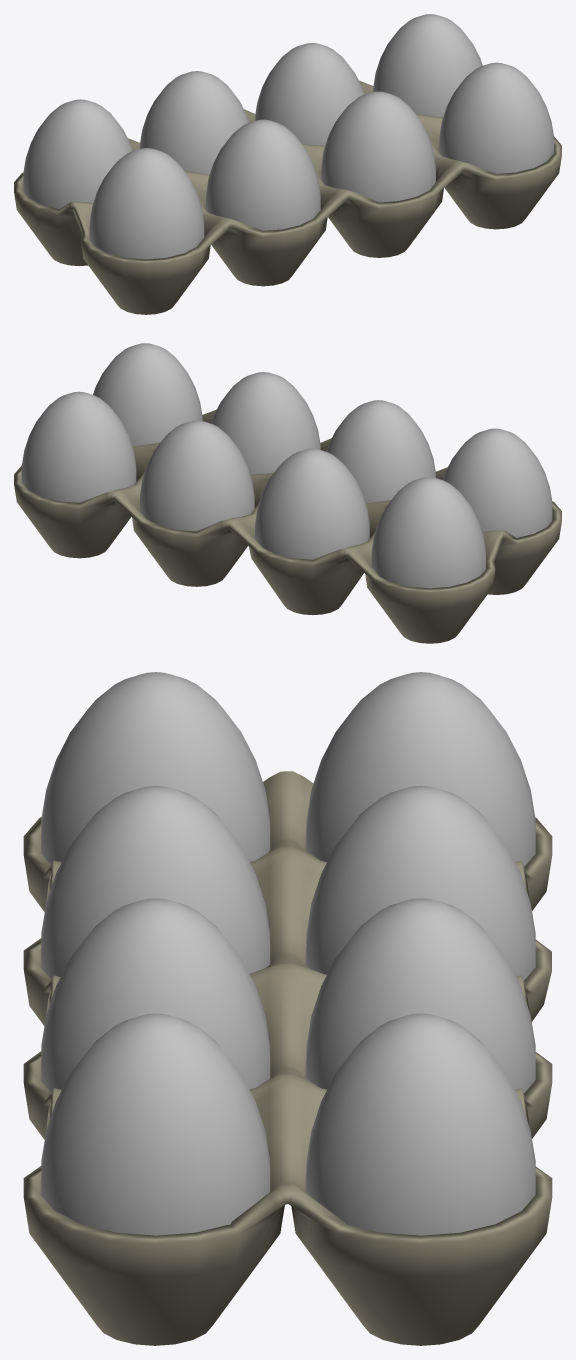
Rendered from Eggs.fbx.
3 views of the same model, one above another, from view 1: azimuth 30°, elevation 25°; view 2: azimuth 150°, elevation 25°; view 3: azimuth 270°, elevation 25° (orthographic). The views are drawn at different scales.
Parts seen in each view (by area): view 1: polySurface74; view 2: polySurface74; view 3: polySurface74.
Part boxes in pixels (<box>): polySurface74: <box>14,14,561,314</box>; polySurface74: <box>14,343,561,643</box>; polySurface74: <box>23,672,552,1345</box>.
Bounding box in the file's own units: 9.19 × 3 × 4.52.
2 materials, 1 textured.
